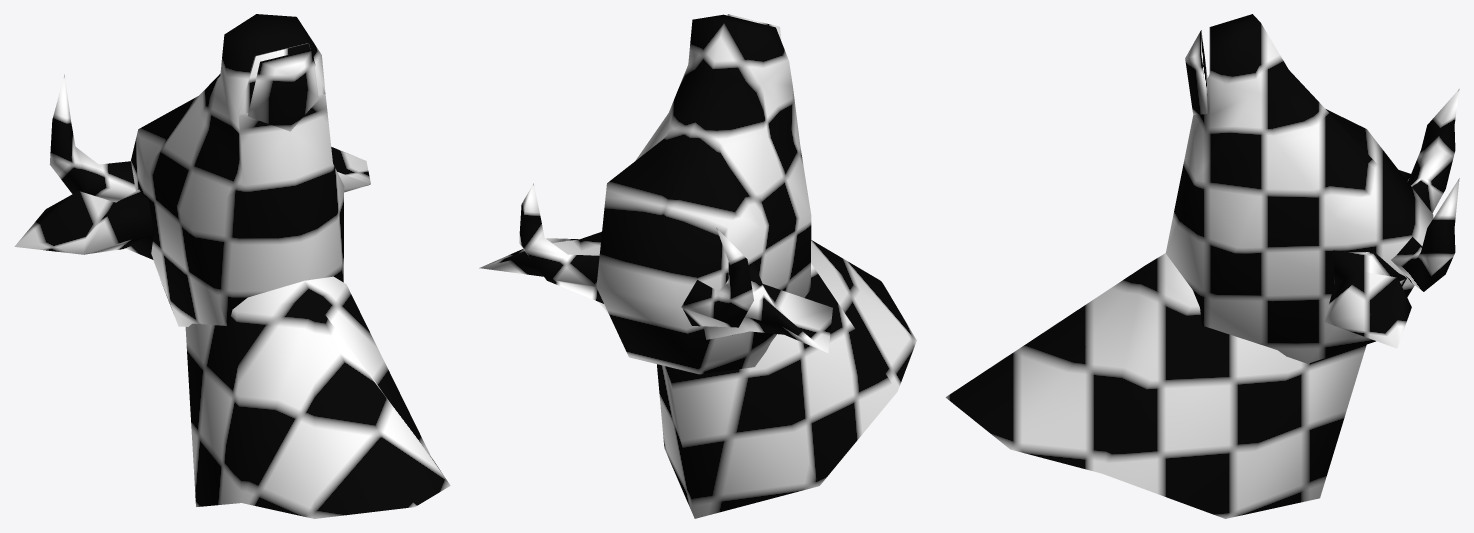
The model's file is infaunanhoco.dae.
The picture shows the model from 3 angles, left to right: view 1: azimuth 30°, elevation 25°; view 2: azimuth 150°, elevation 25°; view 3: azimuth 270°, elevation 25°; orthographic projection.
Parts seen in each view (by area): view 1: face; view 2: face; view 3: face.
Boxes of the visible parts, x1,y1,x2,y2 form: face: [14, 14, 450, 518]; face: [479, 14, 916, 518]; face: [945, 14, 1459, 518].
Size of the model in its own units: 1.47 by 1.88 by 1.91.
Materials: 1 (1 with a texture image).
